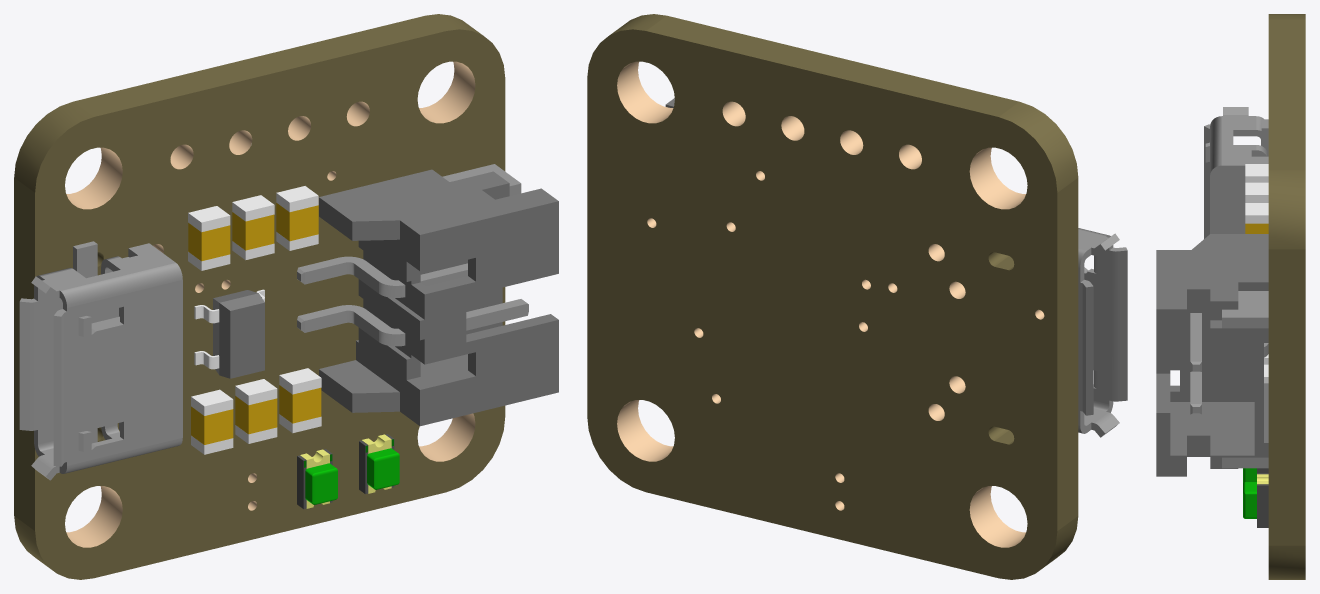
Rendered from adafruit-1904-micro-lipo.glb.
3 renders of one model, left to right at view 1: azimuth 30°, elevation 25°; view 2: azimuth 150°, elevation 25°; view 3: azimuth 270°, elevation 25°, orthographic. The views are drawn at different scales.
Parts seen in each view (by area): view 1: body_8, body_3, body, body_7, body_2, body_6, body_4, body_10, body_5; view 2: body_8, body_7, body; view 3: body_3, body_8, body, body_2, body_4, body_10, body_6.
Boxes of the visible parts, bbox=[...] form: body_8: bbox=[14, 14, 505, 579]; body_3: bbox=[213, 169, 558, 426]; body: bbox=[19, 164, 528, 480]; body_7: bbox=[66, 61, 475, 547]; body_2: bbox=[188, 186, 321, 454]; body_6: bbox=[188, 203, 321, 444]; body_4: bbox=[305, 448, 399, 504]; body_10: bbox=[297, 434, 394, 509]; body_5: bbox=[300, 434, 391, 508]; body_8: bbox=[587, 14, 1078, 579]; body_7: bbox=[617, 61, 1044, 547]; body: bbox=[1078, 228, 1127, 437]; body_3: bbox=[1156, 234, 1268, 476]; body_8: bbox=[1268, 14, 1305, 579]; body: bbox=[1190, 107, 1268, 468]; body_2: bbox=[1245, 164, 1268, 383]; body_4: bbox=[1243, 468, 1256, 518]; body_10: bbox=[1257, 468, 1268, 527]; body_6: bbox=[1245, 223, 1268, 233].
Bounding box in the file's own units: 20.98 × 19.05 × 6.37.
